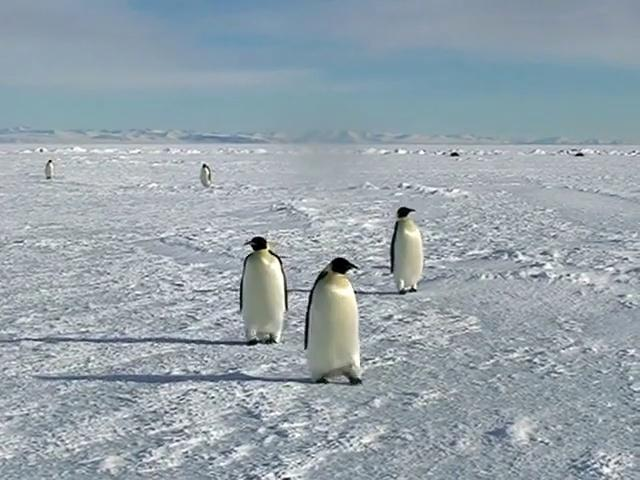animal: (390, 207, 422, 293)
